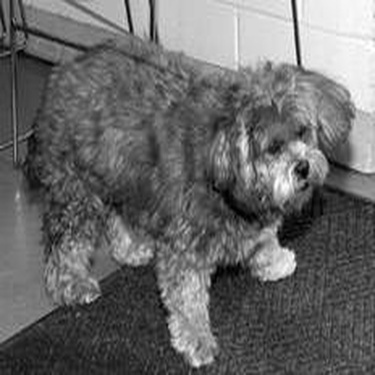dog: (4, 24, 359, 369)
